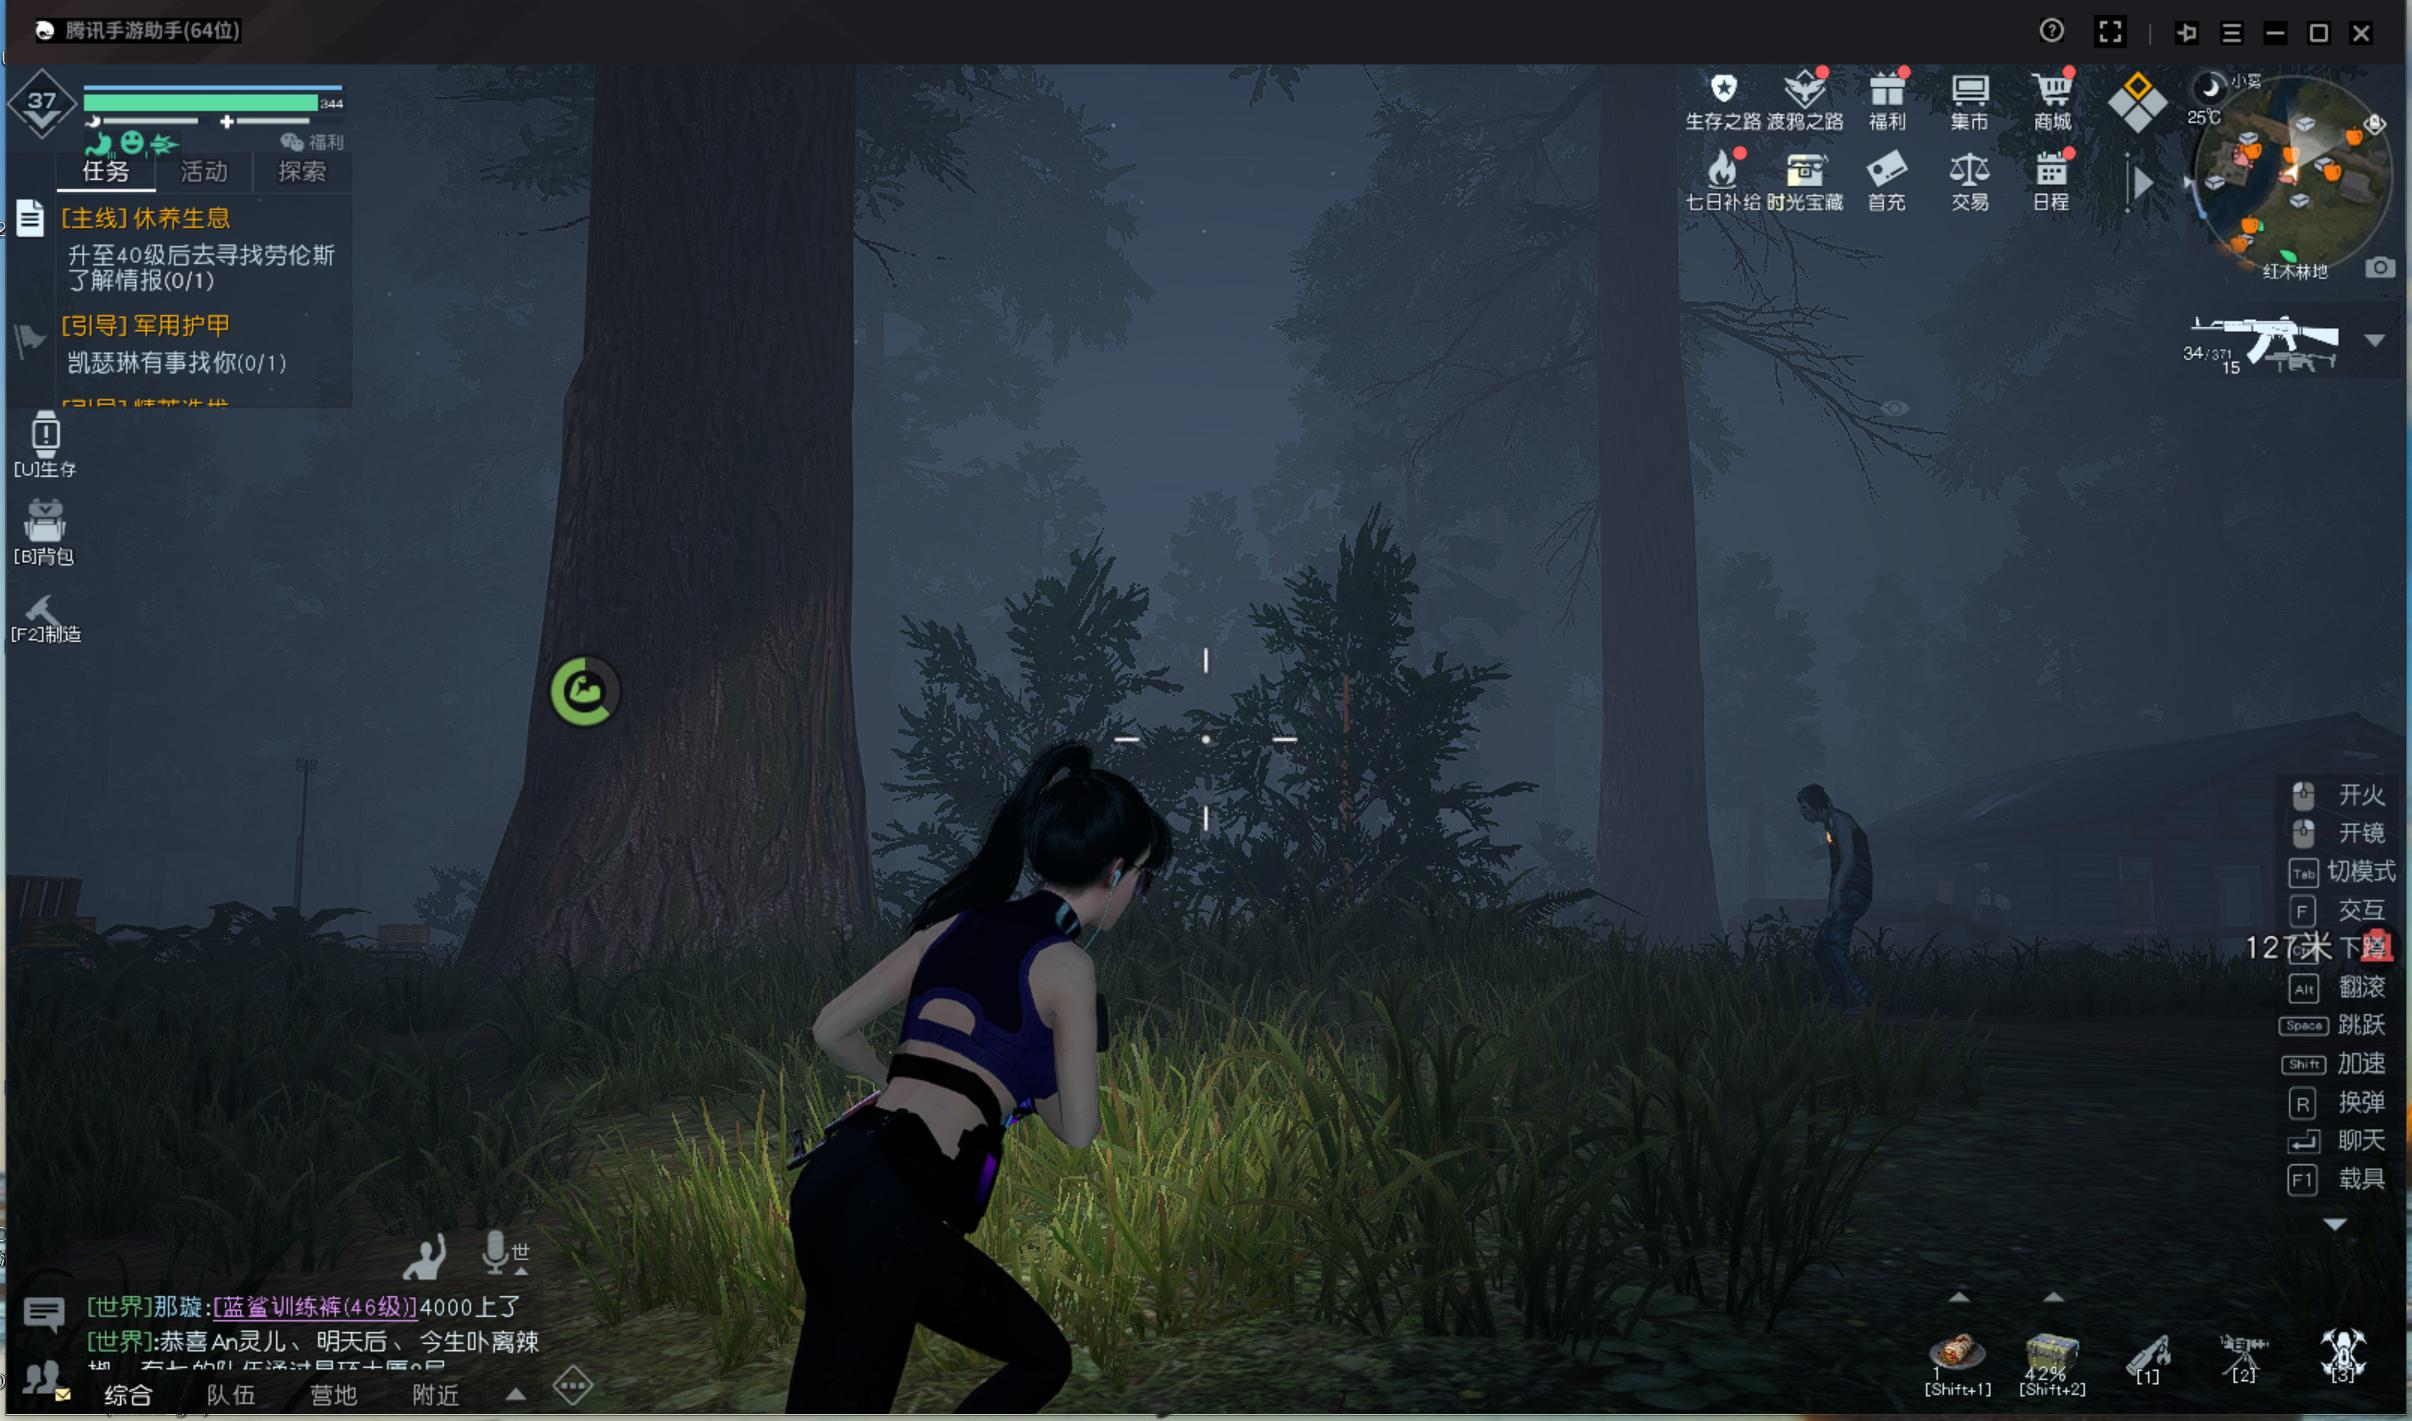tree: (509, 130, 895, 951), (1544, 110, 1739, 968)
